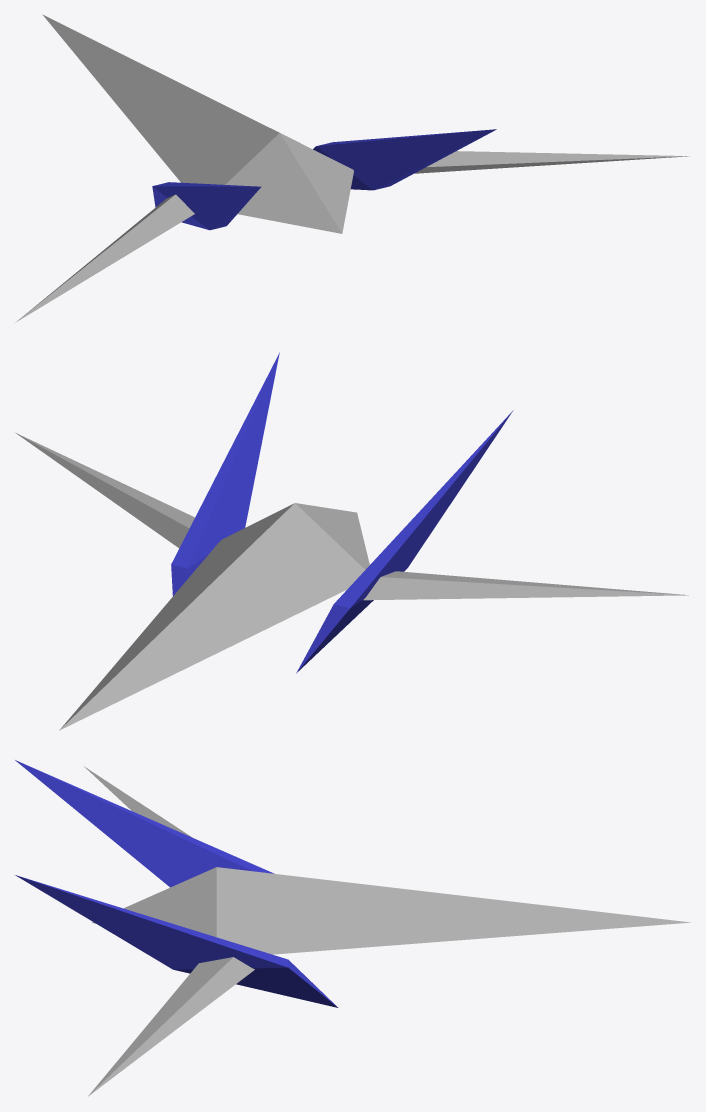
The picture shows the model from 3 angles, top to bottom: view 1: azimuth 30°, elevation 25°; view 2: azimuth 150°, elevation 25°; view 3: azimuth 270°, elevation 25°; orthographic projection.
Visible parts, largest first — view 1: Body, left-dec, right-wing, right-dec, left-wing; view 2: Body, left-dec, right-dec, right-wing, left-wing; view 3: Body, left-dec, right-dec, left-wing, right-wing.
Boxes of the visible parts, x1,y1,x2,y2 form: Body: (42,14,353,233); left-dec: (313,129,496,190); right-wing: (15,194,194,322); right-dec: (152,182,261,230); left-wing: (414,151,689,173); Body: (59,503,369,730); left-dec: (171,352,279,595); right-dec: (296,410,513,673); right-wing: (363,571,688,600); left-wing: (16,433,194,548); Body: (92,867,690,954); left-dec: (15,875,337,1007); right-dec: (15,760,274,887); left-wing: (88,957,254,1096); right-wing: (84,766,192,837).
Size of the model in its own units: 207 by 46.96 by 179.
